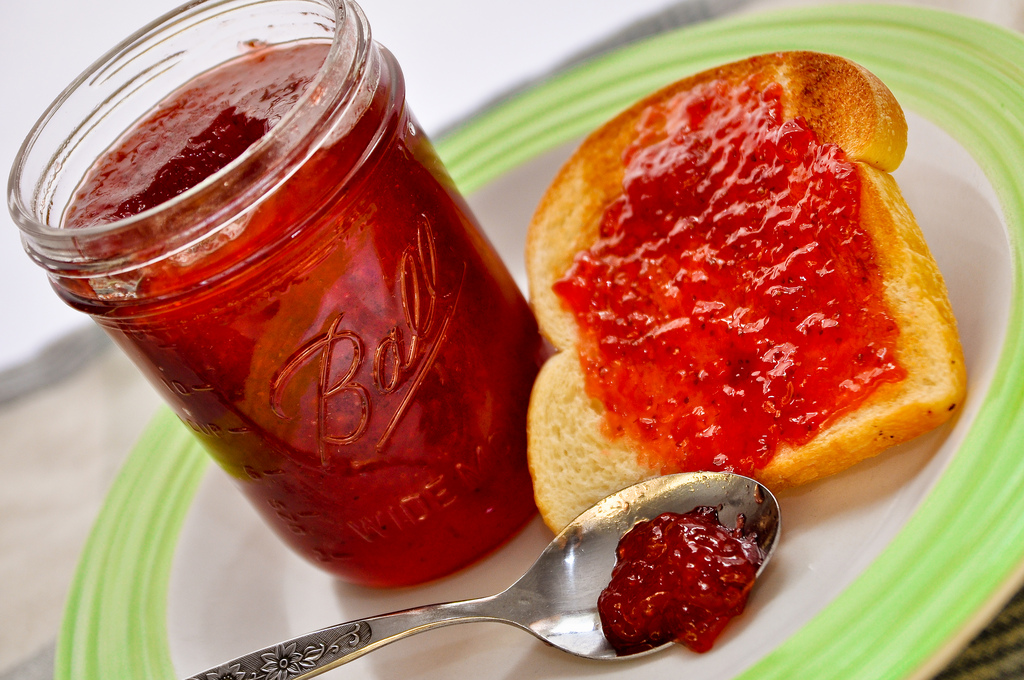slice of bread: (543, 102, 948, 485)
